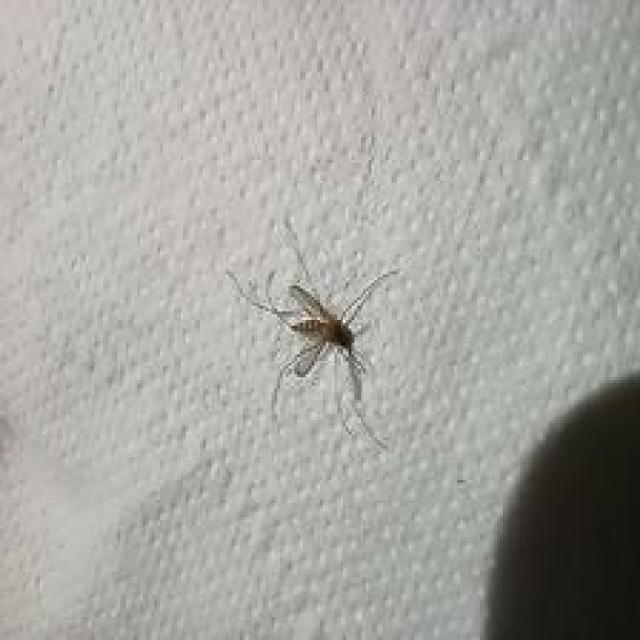Culex: (226, 220, 403, 451)
